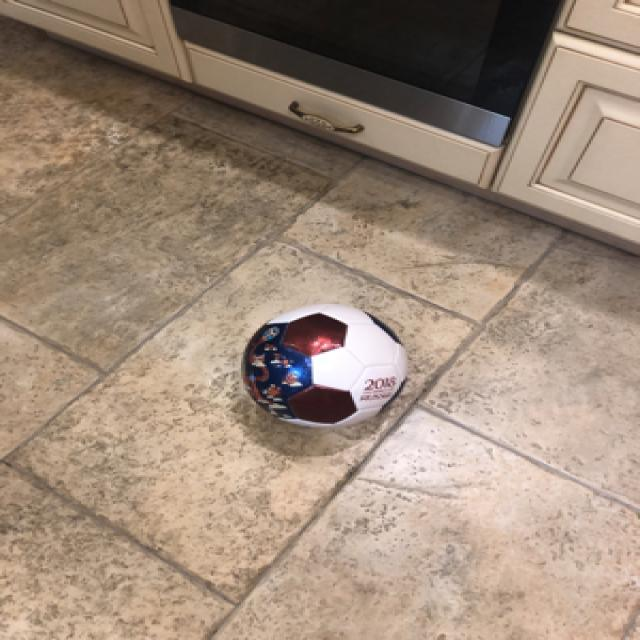soccer_ball: (234, 300, 412, 430)
